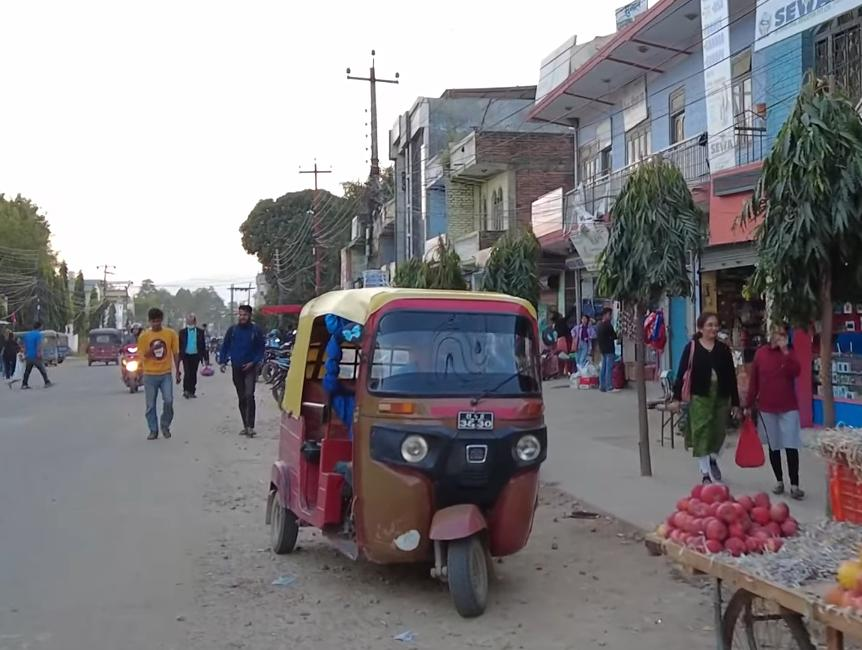auto_rickshaw: (260, 279, 555, 620), (85, 326, 123, 367)
scooter: (115, 340, 151, 398)
